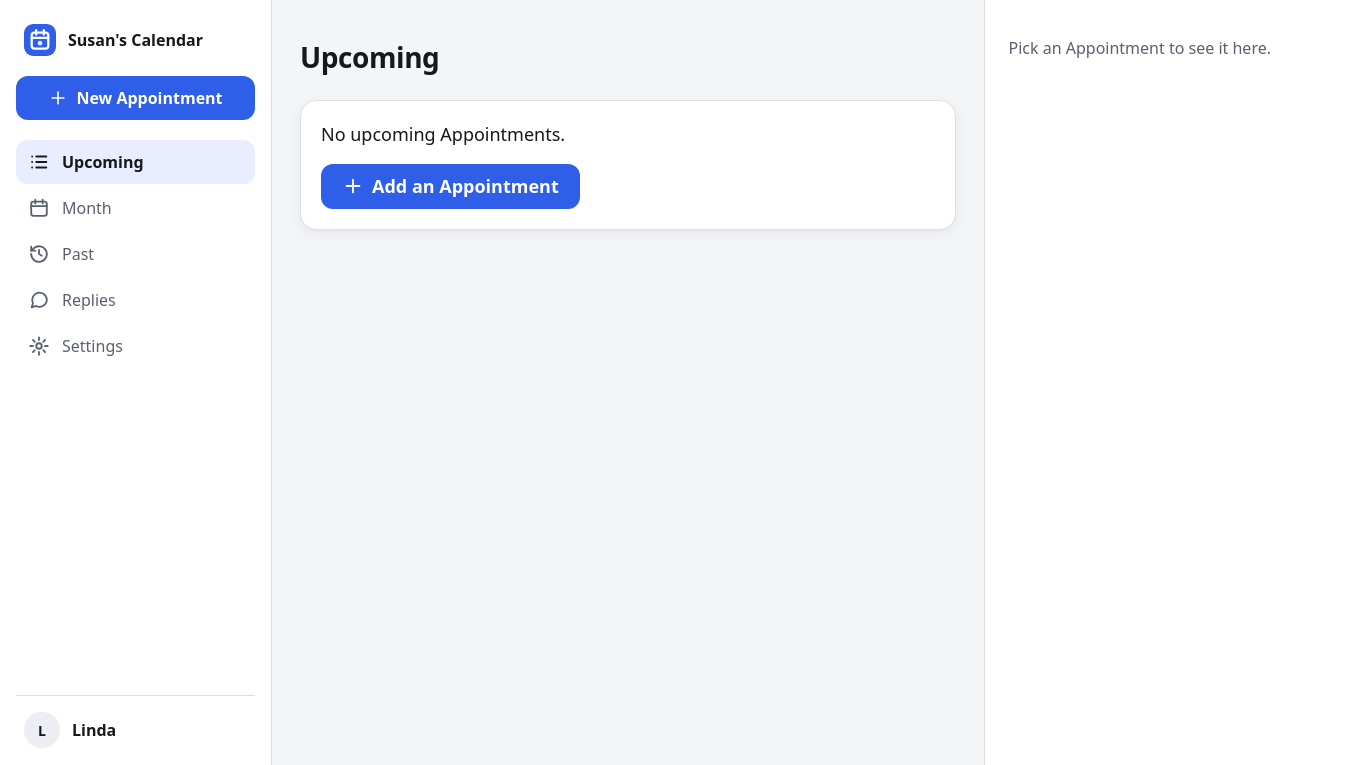
Test: on a desktop › opens the form for a new Appointment in the detail panel from the sidebar button
Click the link "New Appointment": (136, 98) [16,76,255,120]
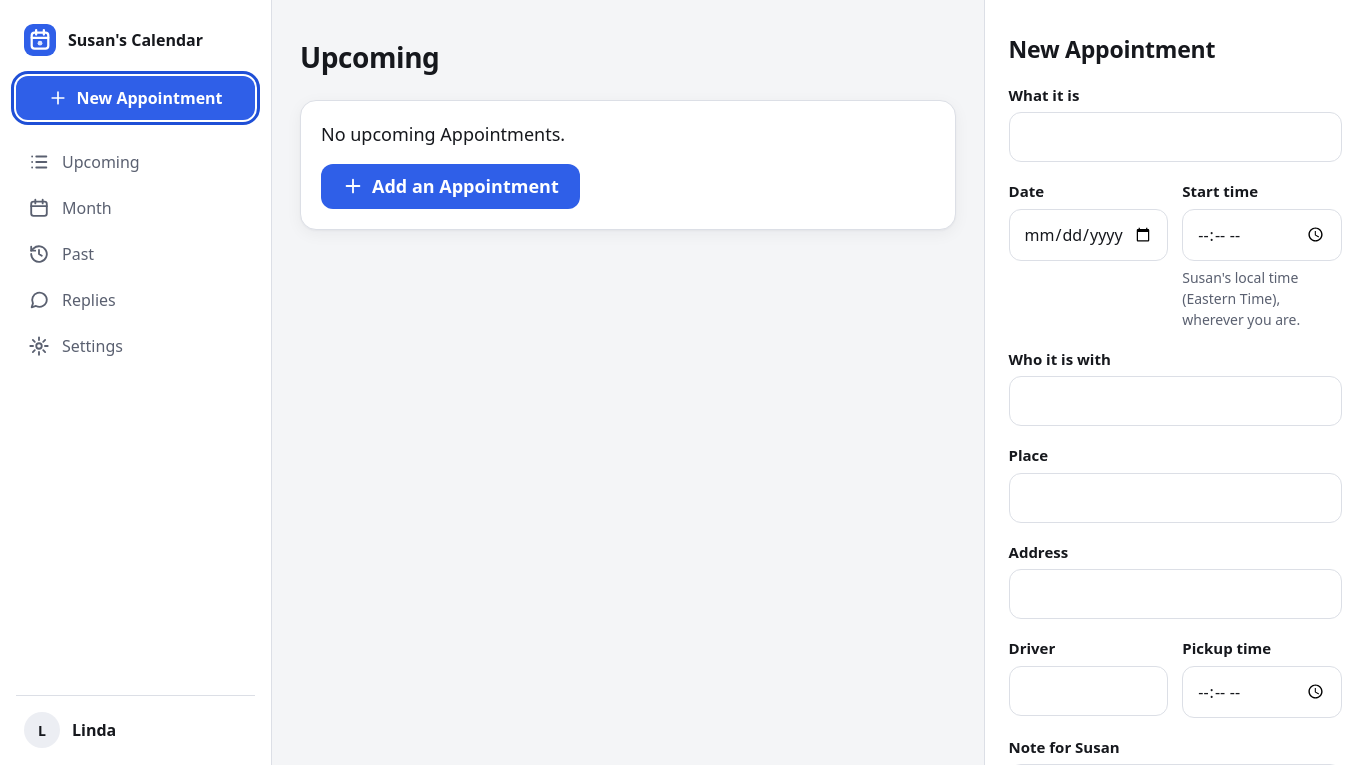
Expected: the heading "New Appointment" is shown, [1008,36,1215,64]
